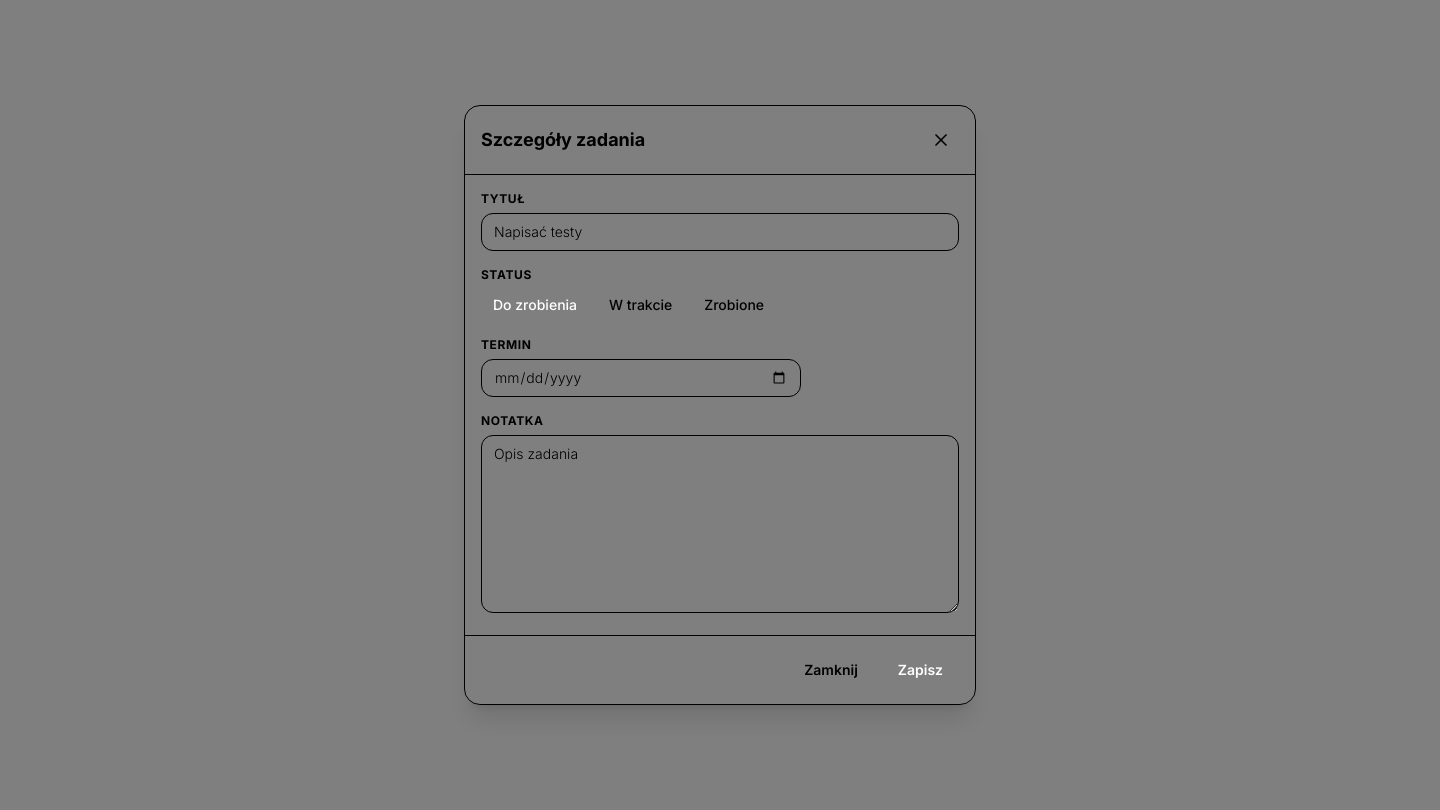
Test: TaskDetailModal › disables save button when title is empty
Clear the field showing "Napisać testy": (720, 232) [481,213,959,251]
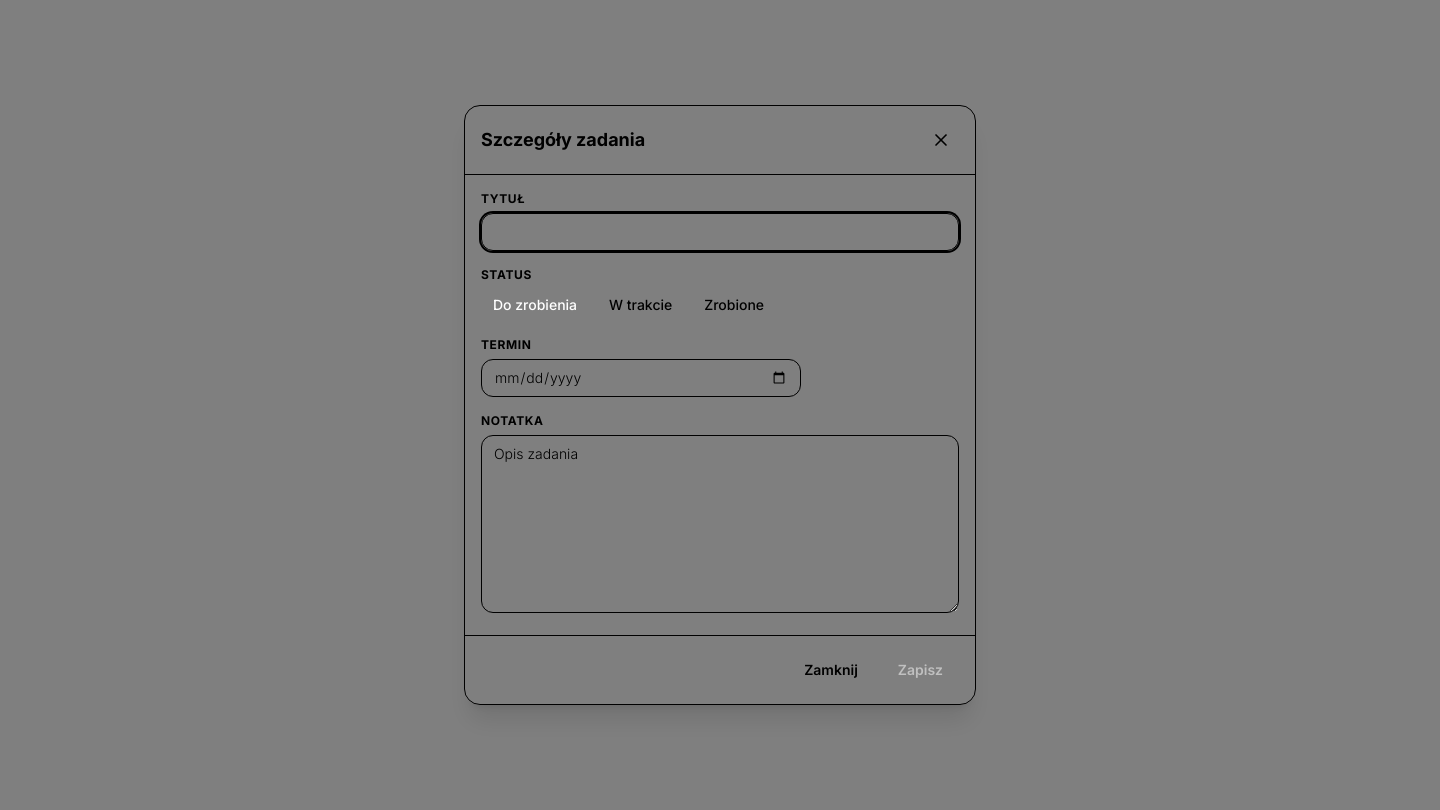
Check: the button "Zapisz" is disabled, box [882,652,959,688]
